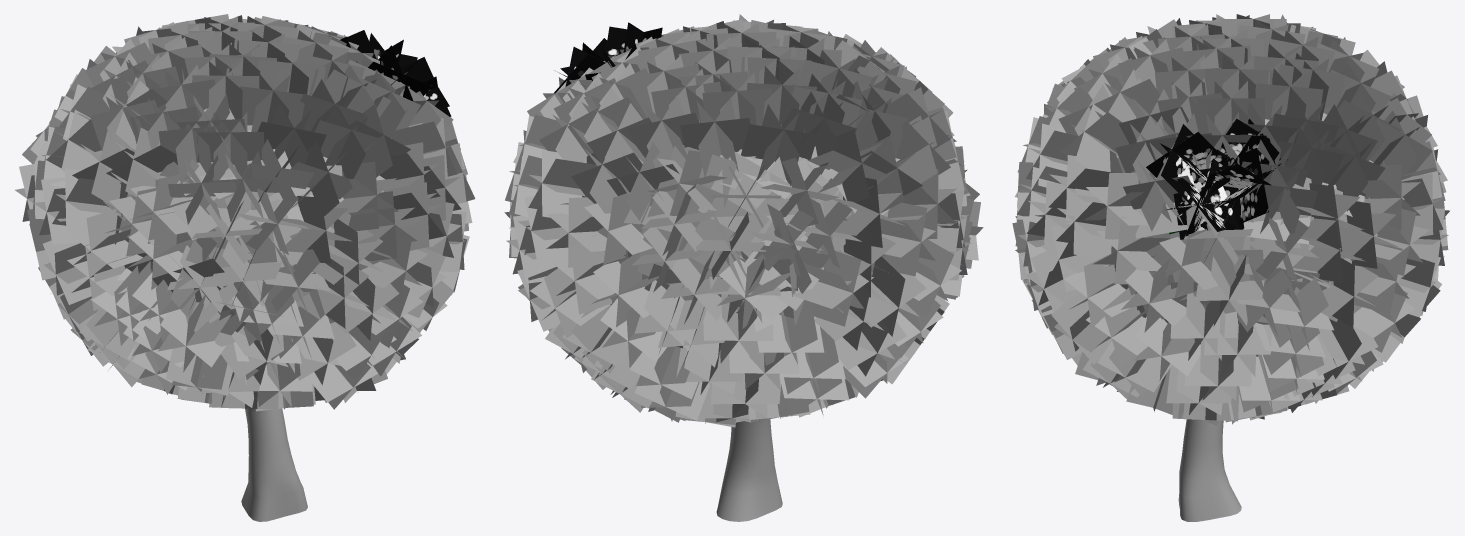
Rendered from sm_Tree01_LOD00.fbx.
3 renders of one model, left to right at view 1: azimuth 30°, elevation 25°; view 2: azimuth 150°, elevation 25°; view 3: azimuth 270°, elevation 25°, orthographic. The views are drawn at different scales.
Parts seen in each view (by area): view 1: sm_Tree01_Leaves_LOD00, sm_Tree01_Trunk_LOD00; view 2: sm_Tree01_Leaves_LOD00, sm_Tree01_Trunk_LOD00; view 3: sm_Tree01_Leaves_LOD00, sm_Tree01_Trunk_LOD00.
Part boxes in pixels (bbox=[...]): sm_Tree01_Leaves_LOD00: bbox=[15, 14, 475, 411]; sm_Tree01_Trunk_LOD00: bbox=[241, 408, 307, 521]; sm_Tree01_Leaves_LOD00: bbox=[504, 14, 983, 427]; sm_Tree01_Trunk_LOD00: bbox=[716, 419, 782, 521]; sm_Tree01_Leaves_LOD00: bbox=[1012, 14, 1449, 425]; sm_Tree01_Trunk_LOD00: bbox=[1178, 419, 1241, 521].
Size of the model in its own units: 61.3 by 66.99 by 58.81.
